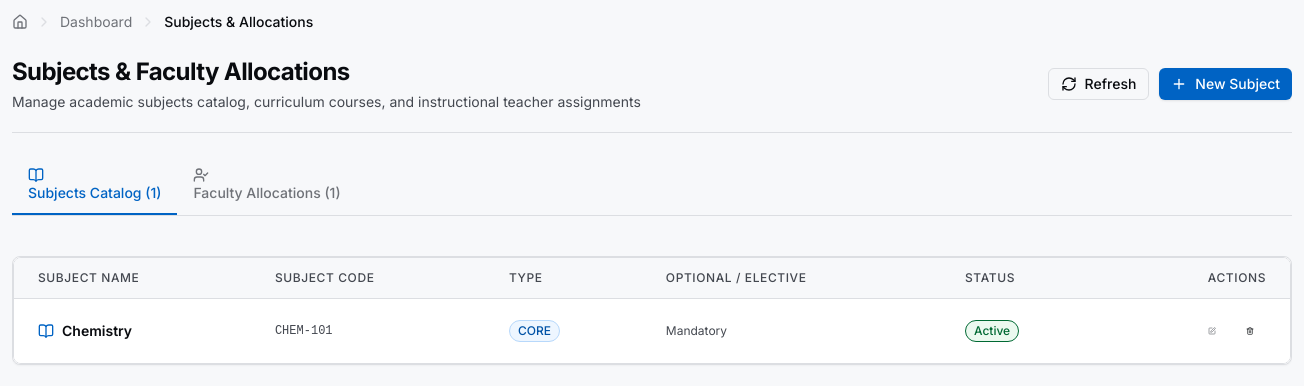
Test: SubjectsPage › should render subjects catalog and switch to allocations tab
Expected: the text "Chemistry" is shown, [62,321,132,341]
Expected: the text "CHEM-101" is shown, [251,298,485,363]
# Switch to allocations tab
Click the tab "Faculty Allocations (1)" at (267,186), box [177,157,357,215]
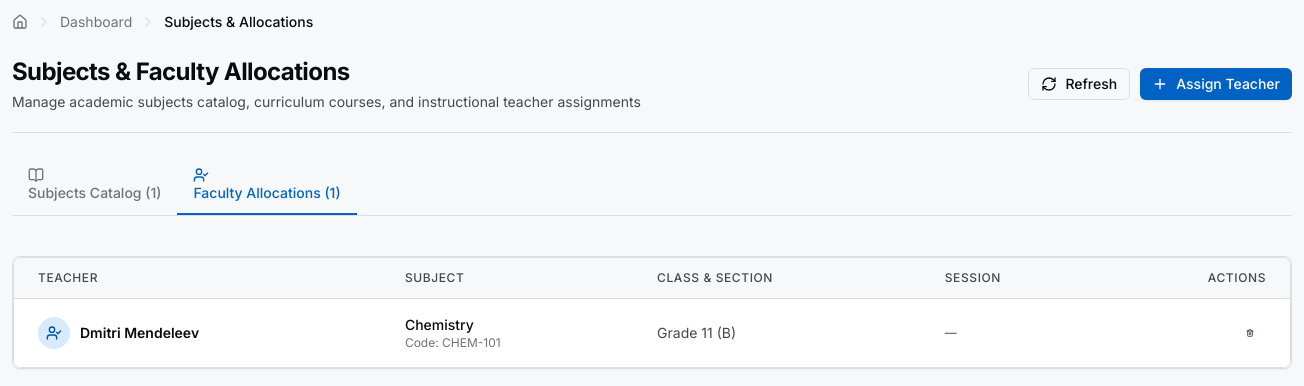
Expected: the text "Dmitri Mendeleev" is shown, [80,323,199,343]
Expected: the text "Grade 11 (B)" is shown, [633,298,921,367]
